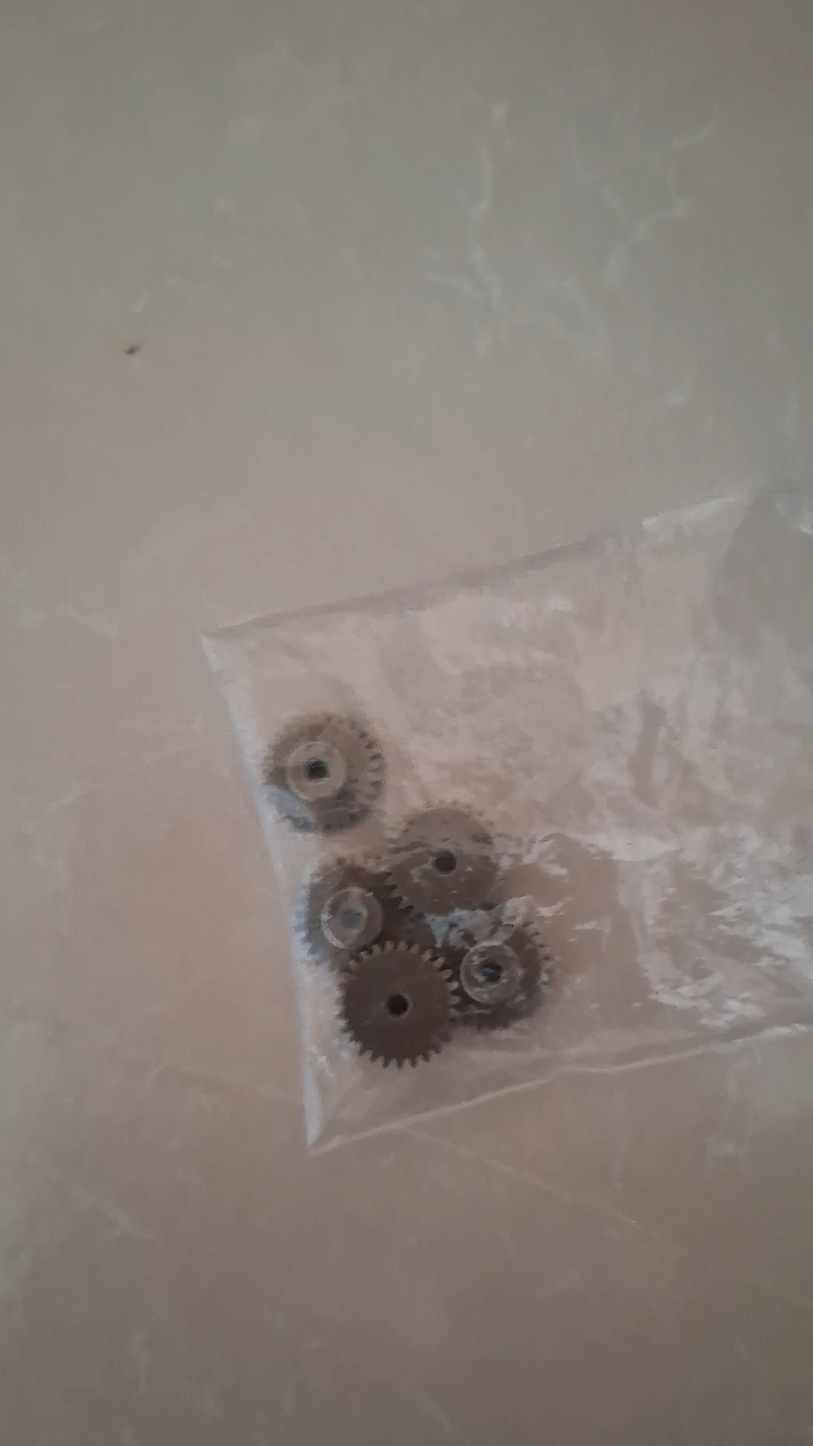spur gear: (339, 940, 456, 1067), (296, 861, 434, 966), (263, 713, 384, 832), (389, 807, 498, 914), (454, 923, 549, 1028)
